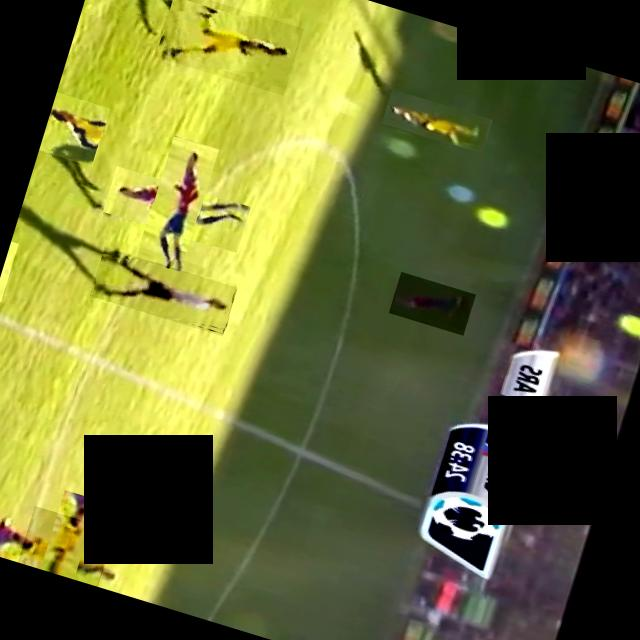referee: (88, 247, 236, 336)
soccer-player: (152, 0, 303, 95), (115, 150, 234, 268), (16, 506, 114, 586), (380, 88, 491, 154), (388, 271, 474, 335), (38, 92, 108, 166), (0, 240, 17, 301)
